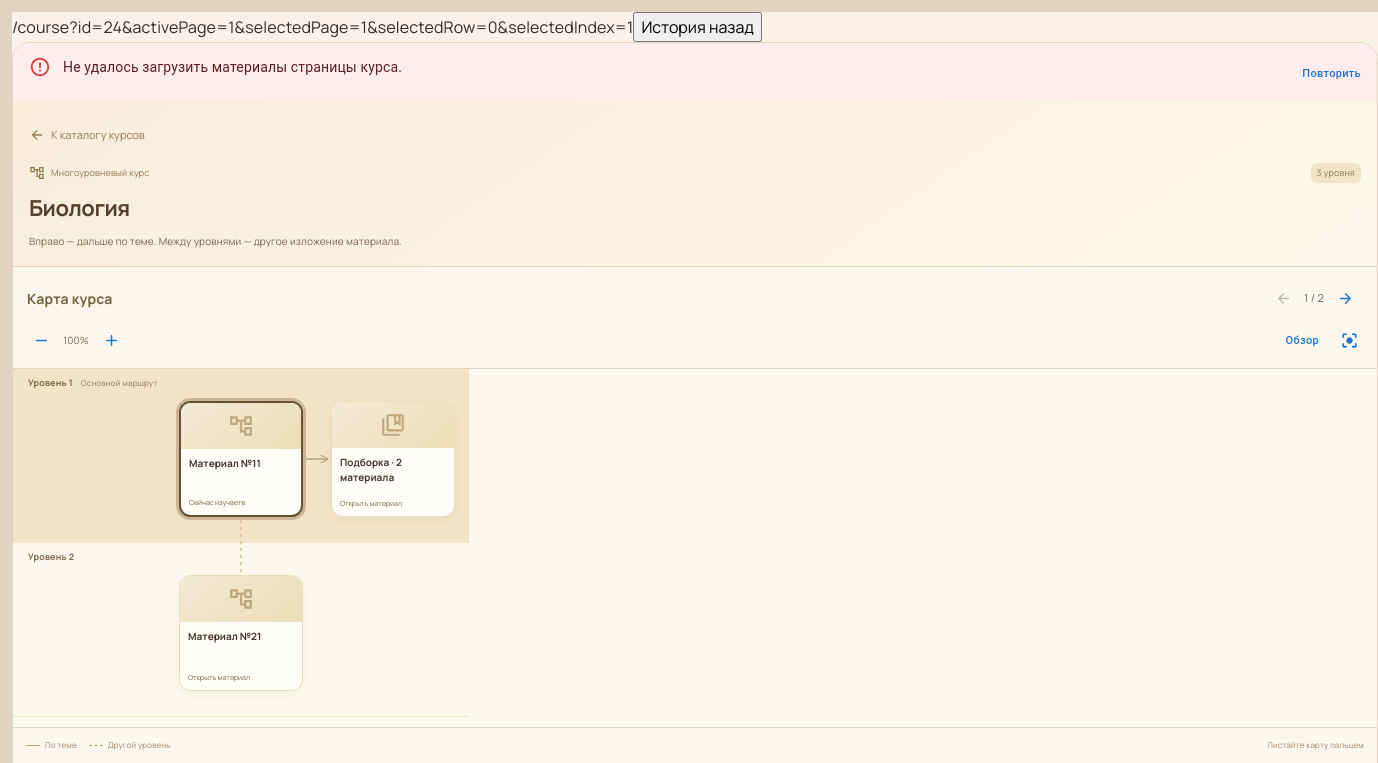
Test: a failed material batch keeps the map and retries the whole page once
The width and height of the screenshot is (1378, 763).
Check: the number of buttons with class "sw-mobile-tree-node" is 3, box left=179, top=401, right=303, bottom=517; left=331, top=401, right=455, bottom=517; left=179, top=575, right=303, bottom=691
Click the button "Повторить" at (1332, 74), box left=1294, top=53, right=1369, bottom=95
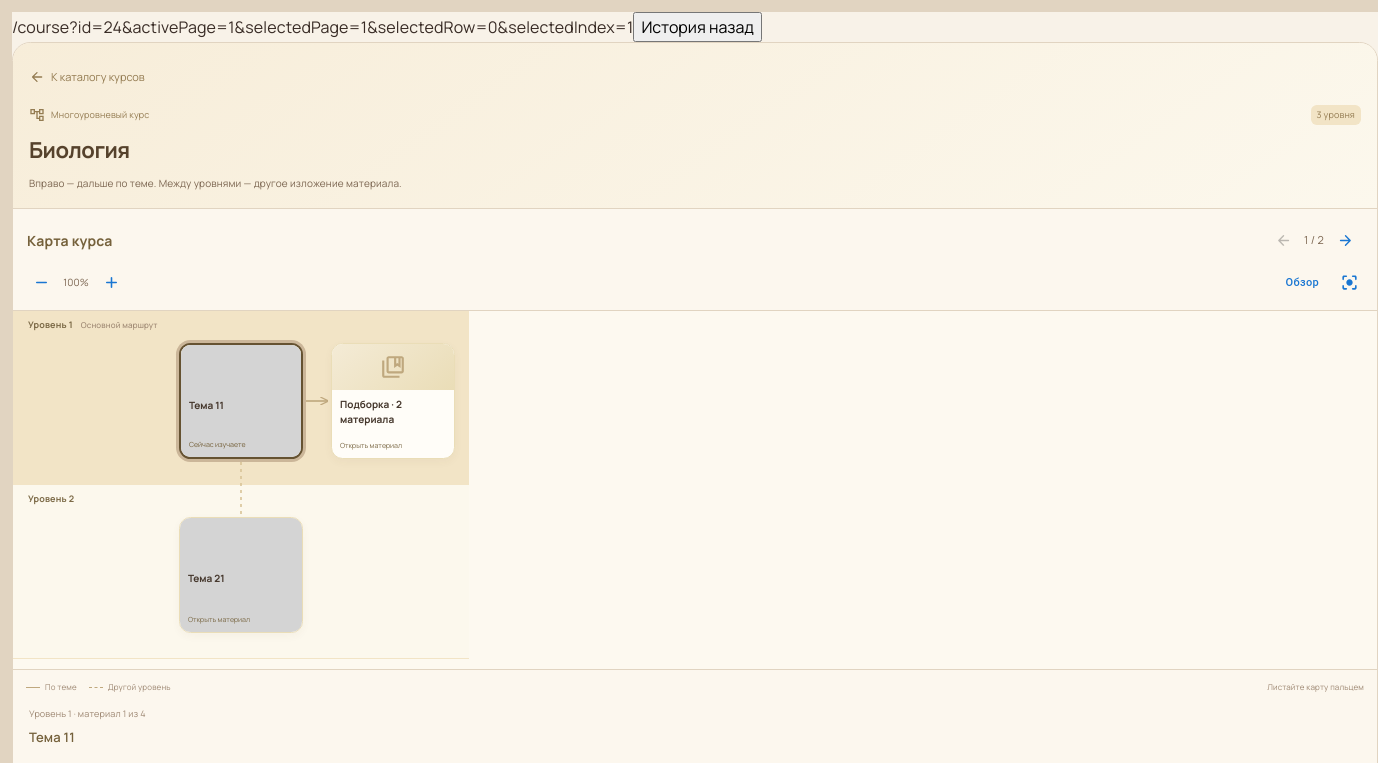
Check: the text "Тема 21" is shown, box left=188, top=571, right=225, bottom=585
Check: the text "Не удалось загрузить материалы страницы курса" is gone
